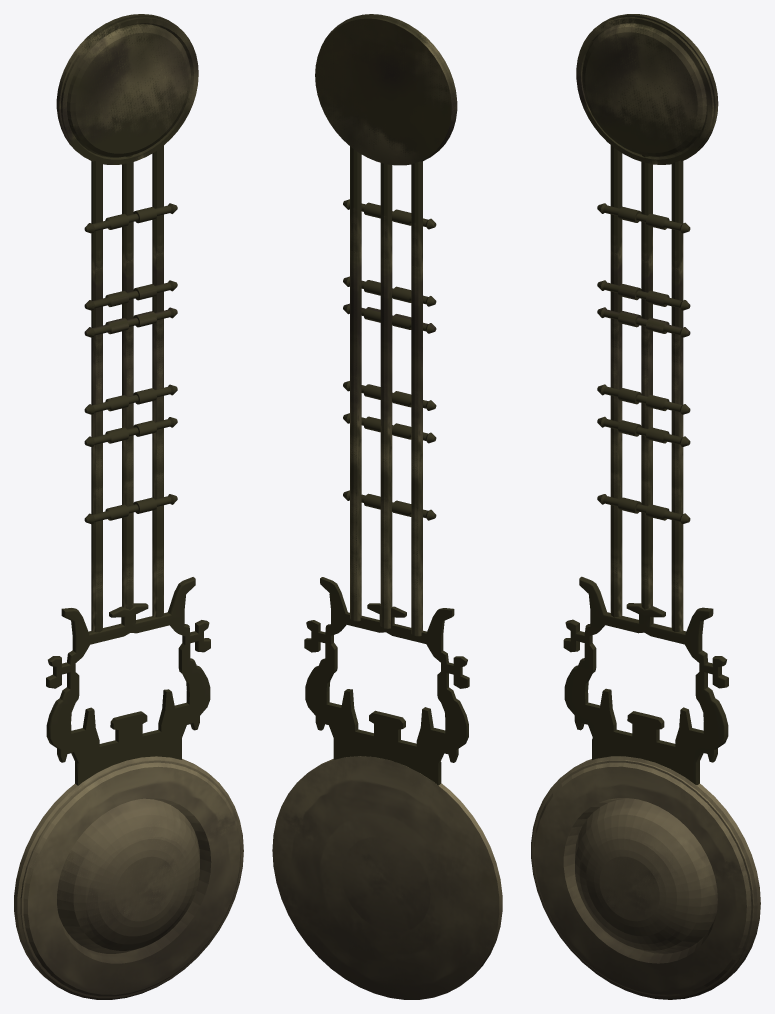
Rendered from Clock-New-gong.fbx.
3 views of the same model, side by side, from view 1: azimuth 30°, elevation 25°; view 2: azimuth 150°, elevation 25°; view 3: azimuth 330°, elevation 25° (orthographic).
Visible parts, largest first — view 1: group11_pasted__polySurface32_pasted__polySurface39; view 2: group11_pasted__polySurface32_pasted__polySurface39; view 3: group11_pasted__polySurface32_pasted__polySurface39.
Boxes of the visible parts, x1,y1,x2,y2 form: group11_pasted__polySurface32_pasted__polySurface39: [14, 14, 243, 999]; group11_pasted__polySurface32_pasted__polySurface39: [272, 14, 502, 999]; group11_pasted__polySurface32_pasted__polySurface39: [531, 14, 760, 999].
Size of the model in its own units: 42.2 by 174 by 6.58.
